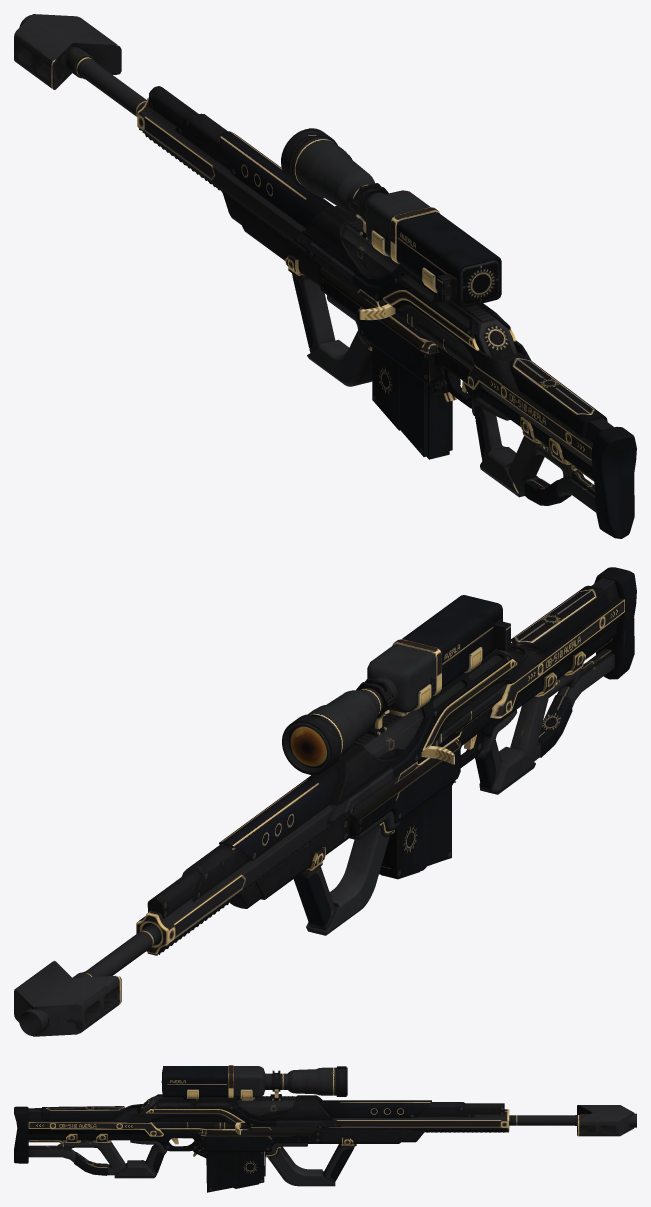
Rendered from eclisse.glb.
The picture shows the model from 3 angles, top to bottom: view 1: azimuth 30°, elevation 25°; view 2: azimuth 150°, elevation 25°; view 3: azimuth 270°, elevation 25°; orthographic projection. The views are drawn at different scales.
Visible parts, largest first — view 1: eclisse_body, eclisse_mag, eclisse_bolt; view 2: eclisse_body, eclisse_mag, eclisse_bolt; view 3: eclisse_body, eclisse_mag, eclisse_bolt.
Part boxes in pixels (x1,y1,x2,y2): eclisse_body: (14, 14, 636, 538); eclisse_mag: (372, 345, 452, 459); eclisse_bolt: (359, 300, 501, 383); eclisse_body: (14, 567, 636, 1036); eclisse_mag: (379, 783, 451, 879); eclisse_bolt: (418, 684, 507, 764); eclisse_body: (14, 1065, 636, 1186); eclisse_mag: (206, 1151, 265, 1192); eclisse_bolt: (143, 1122, 249, 1134).
Size of the model in its own units: 0.1972 by 0.4721 by 2.18.
Materials: 1 (1 with a texture image).
